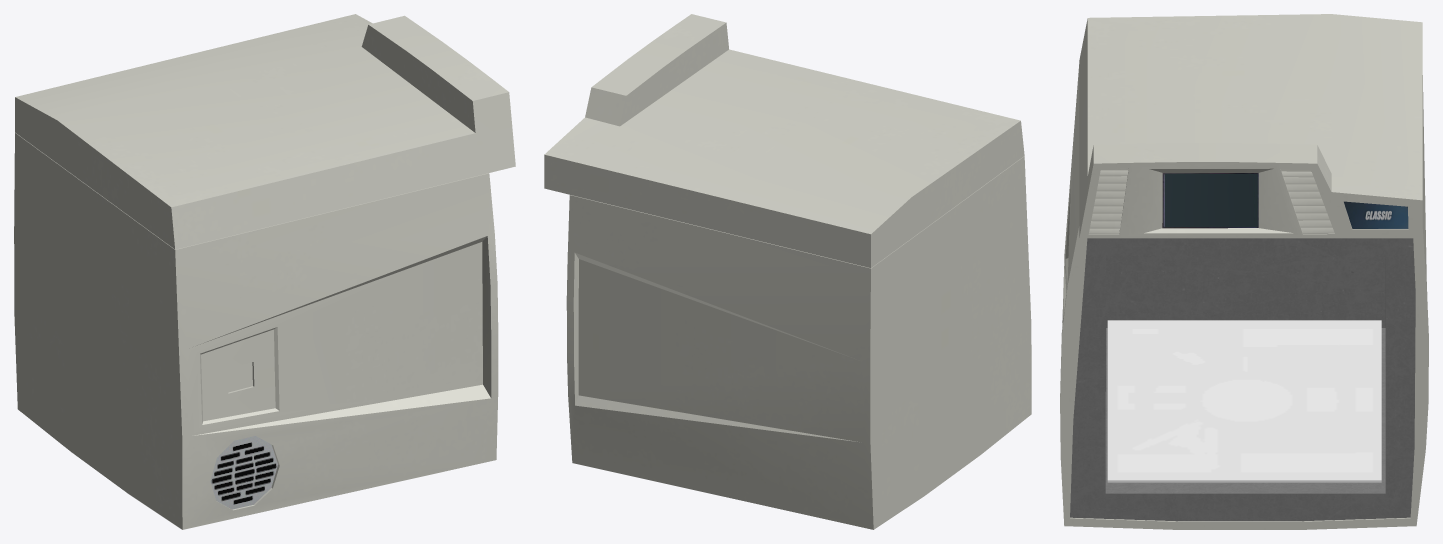
File: SM_微波消解仪.FBX
The picture shows the model from 3 angles, left to right: view 1: azimuth 30°, elevation 25°; view 2: azimuth 150°, elevation 25°; view 3: azimuth 270°, elevation 25°; orthographic projection. The views are drawn at different scales.
Parts seen in each view (by area): view 1: SM_微波消解仪; view 2: SM_微波消解仪; view 3: SM_微波消解仪.
Part boxes in pixels (box(x1,y1,x2,y2)): SM_微波消解仪: box(14, 14, 515, 529); SM_微波消解仪: box(544, 14, 1031, 529); SM_微波消解仪: box(1060, 14, 1428, 529).
Bounding box in the file's own units: 641 × 641 × 561.
